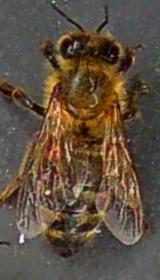varroa_mite: (40, 140, 66, 169)
